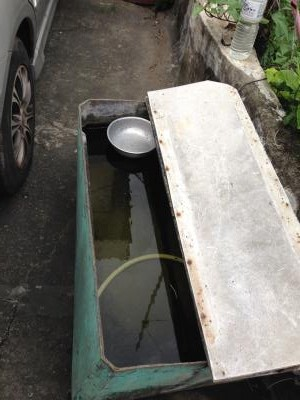bottle: (230, 1, 267, 61)
bowl: (105, 115, 156, 158)
box: (73, 99, 208, 400)
